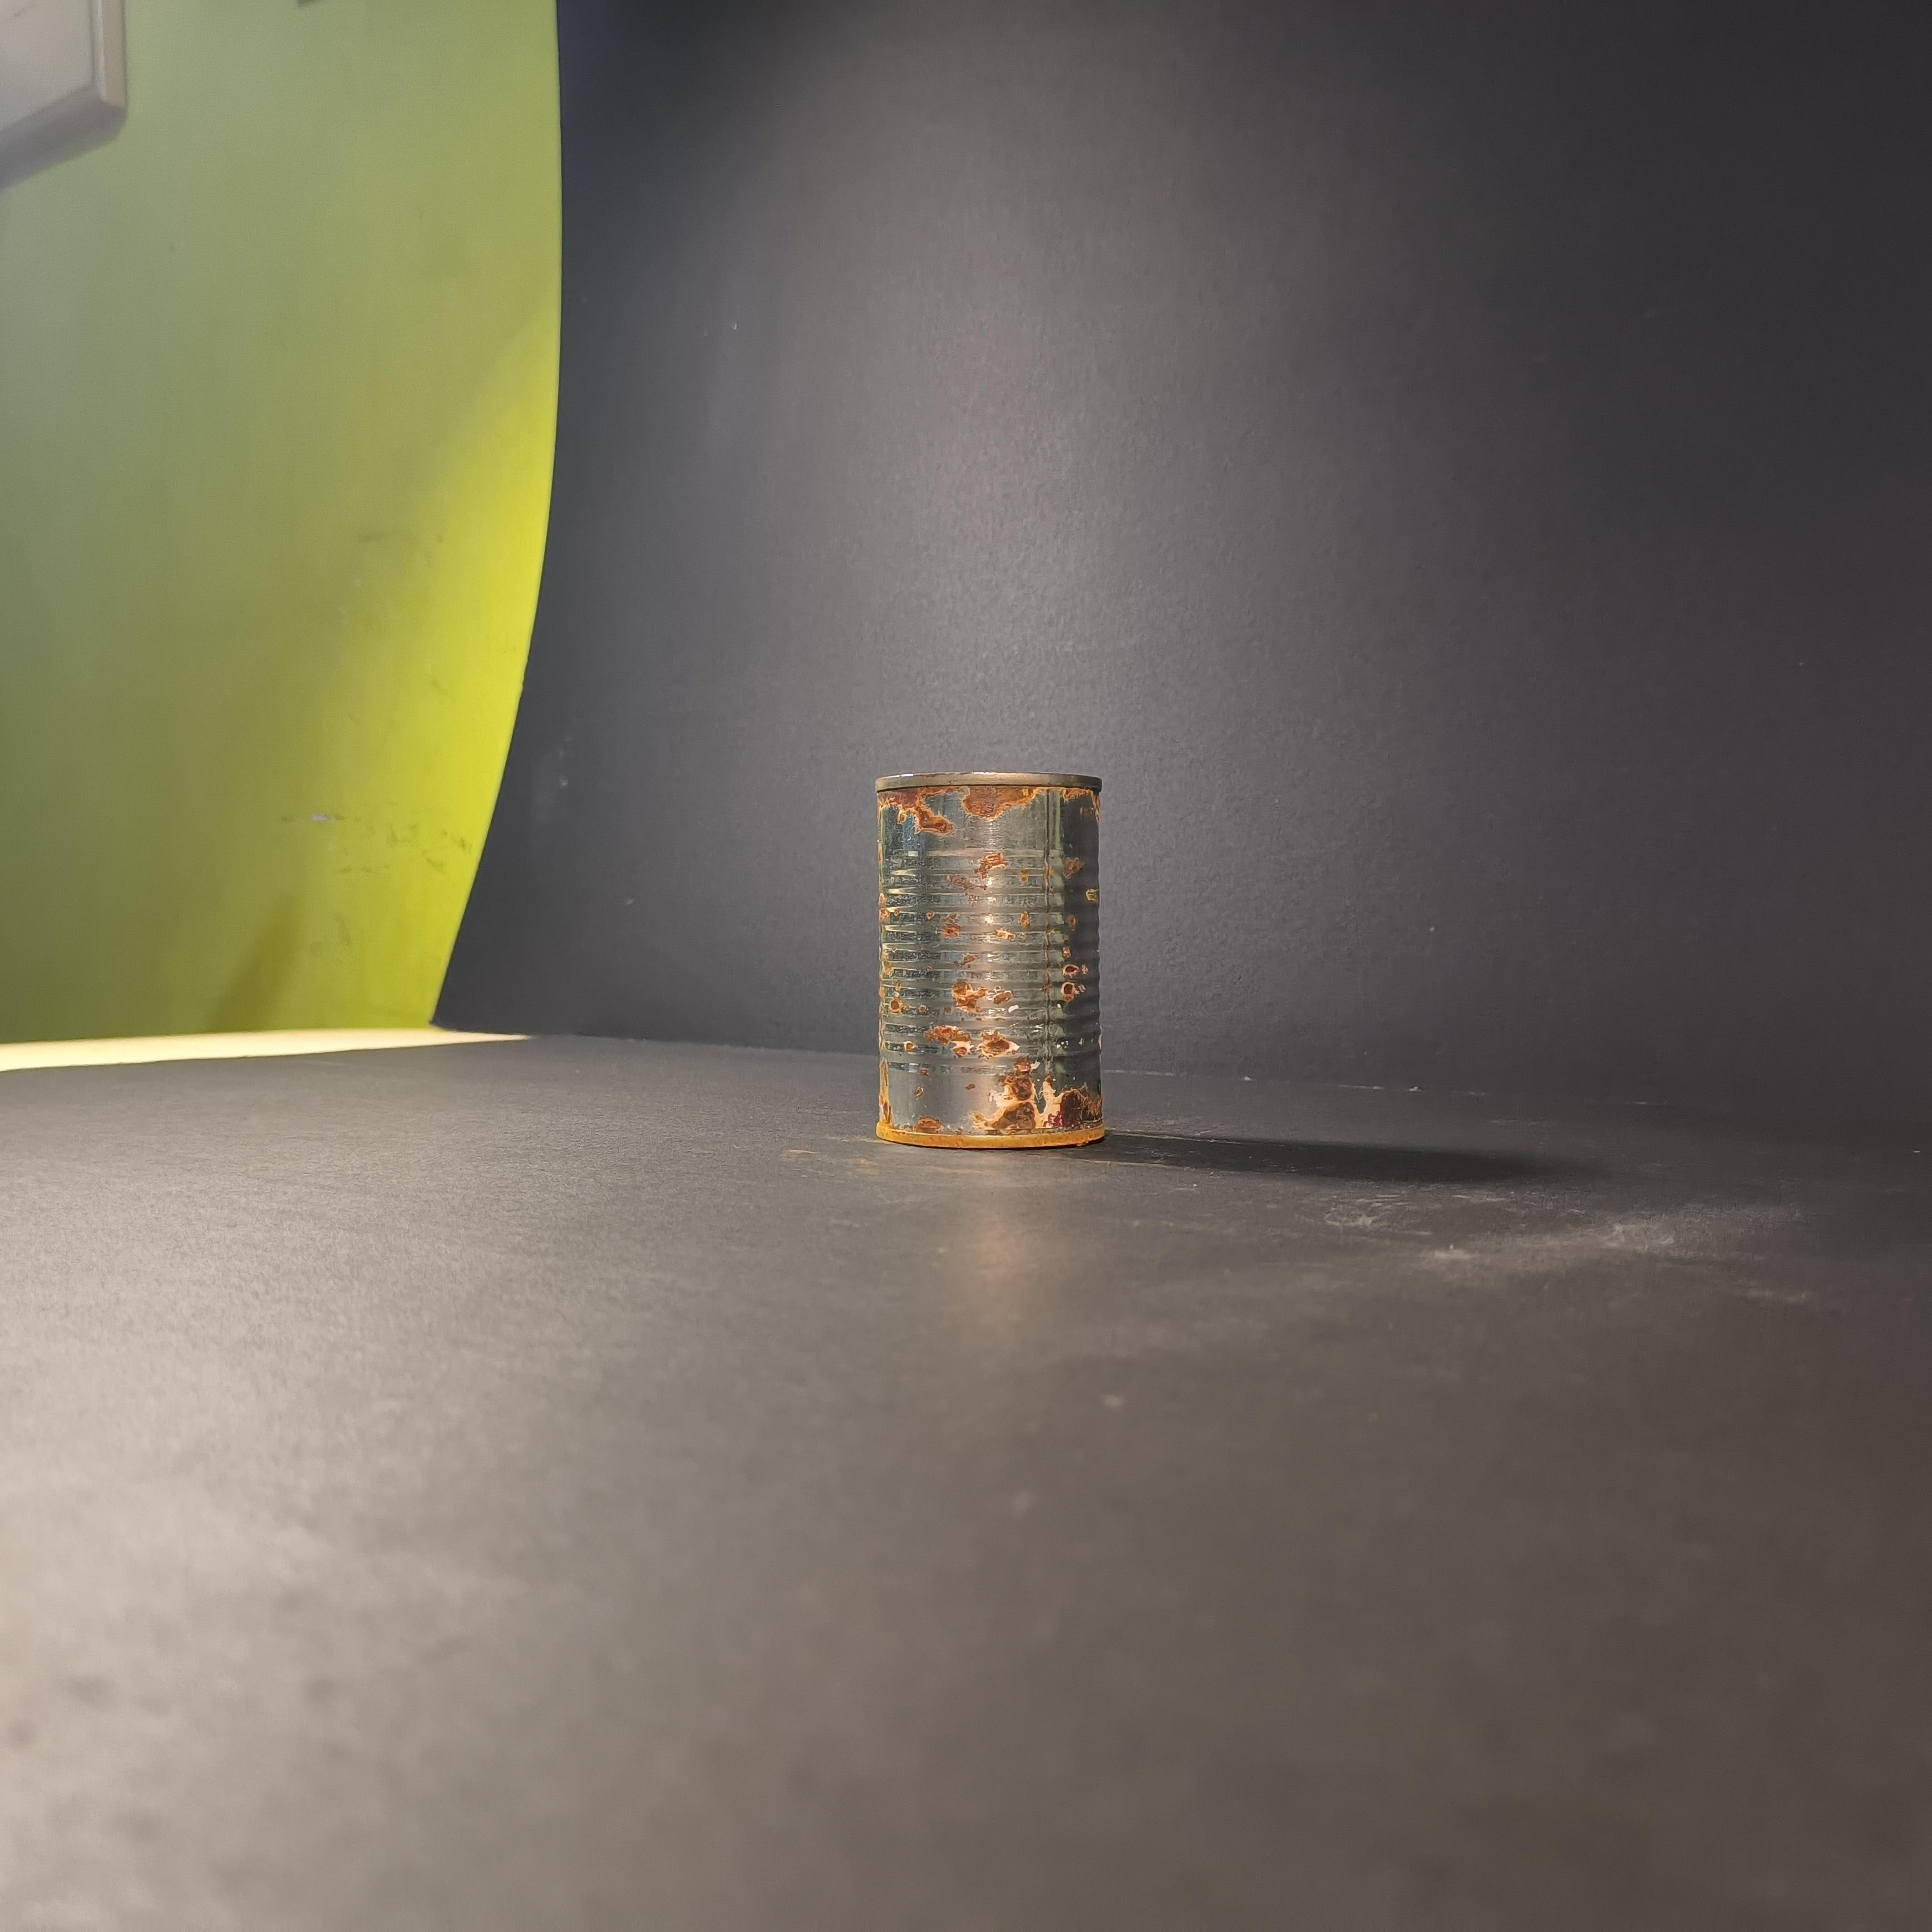Rusted: (856, 752, 1127, 1182)
